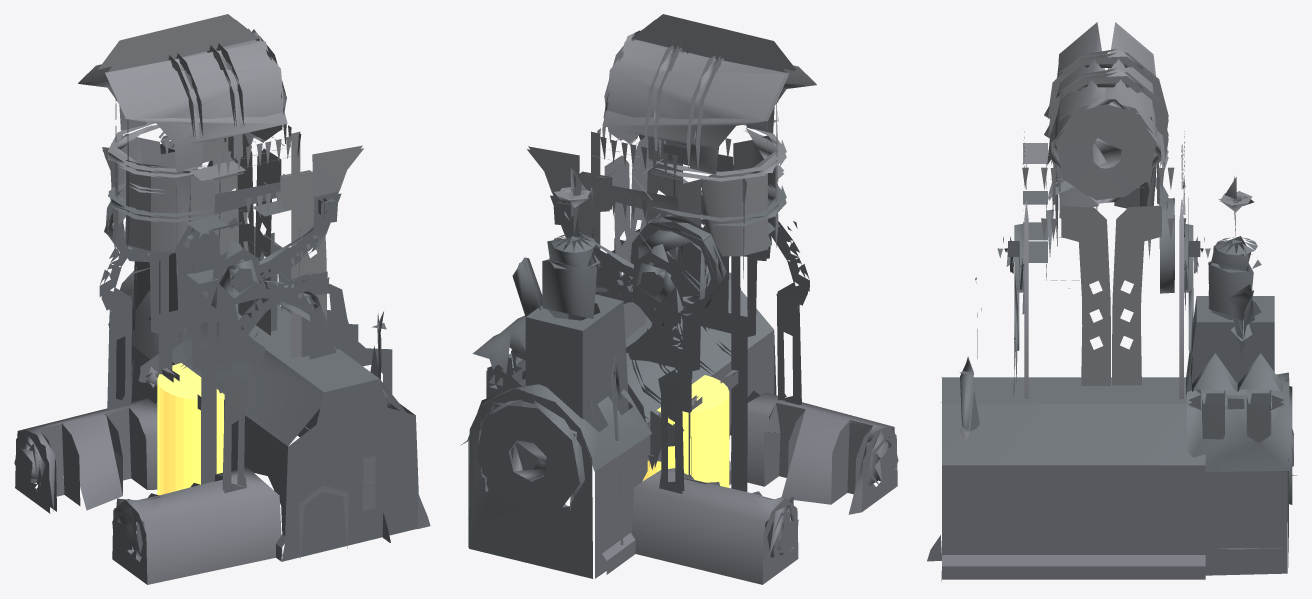
File: factory.glb
3 views of the same model, side by side, from view 1: azimuth 30°, elevation 25°; view 2: azimuth 150°, elevation 25°; view 3: azimuth 270°, elevation 25° (orthographic). The views are drawn at different scales.
Visible parts, largest first — view 1: factory_Building; view 2: factory_Building; view 3: factory_Building.
Boxes of the visible parts, left/top/right/bottom form: factory_Building: left=14, top=14, right=430, bottom=584; factory_Building: left=460, top=14, right=898, bottom=584; factory_Building: left=927, top=22, right=1296, bottom=581.
Bounding box in the file's own units: 15.4 × 25.49 × 17.72.
